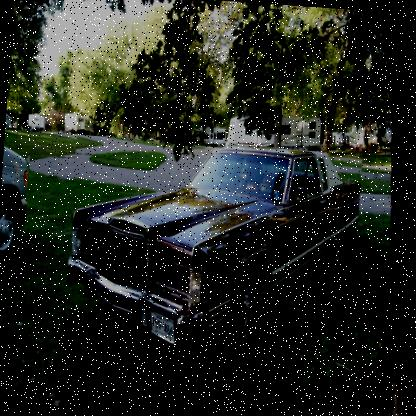Car: (63, 134, 363, 356), (0, 146, 32, 262)
